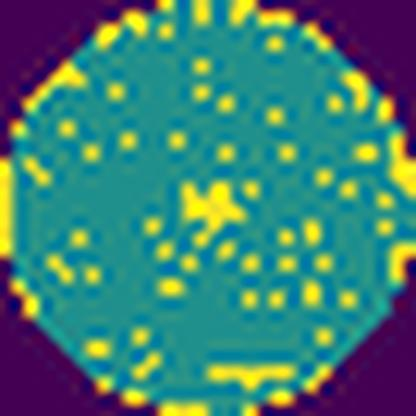Center: (176, 174, 251, 238)
